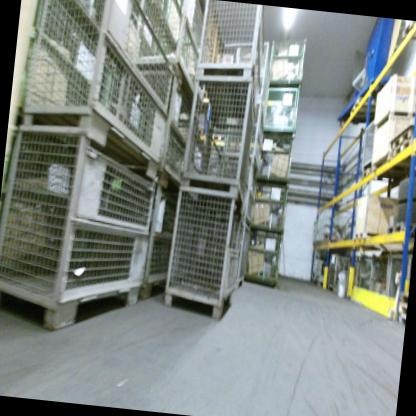pallet: (360, 165, 407, 188), (348, 94, 377, 123), (391, 137, 416, 169), (391, 123, 416, 154), (384, 216, 415, 240), (398, 20, 416, 41), (397, 299, 407, 315), (397, 290, 408, 304), (396, 314, 405, 328)
stillage: (0, 119, 163, 347), (5, 0, 188, 185), (21, 0, 120, 132), (114, 62, 207, 196), (162, 179, 245, 327), (176, 66, 259, 202), (124, 0, 217, 117), (134, 163, 185, 322), (194, 0, 269, 93), (206, 31, 273, 123), (207, 152, 262, 231), (217, 101, 265, 185), (242, 230, 284, 289), (247, 180, 291, 236), (260, 83, 304, 137), (267, 31, 310, 86), (256, 129, 297, 184), (53, 0, 110, 31), (386, 245, 412, 310), (234, 218, 254, 289), (368, 247, 391, 302), (324, 250, 351, 292), (355, 251, 373, 302)
